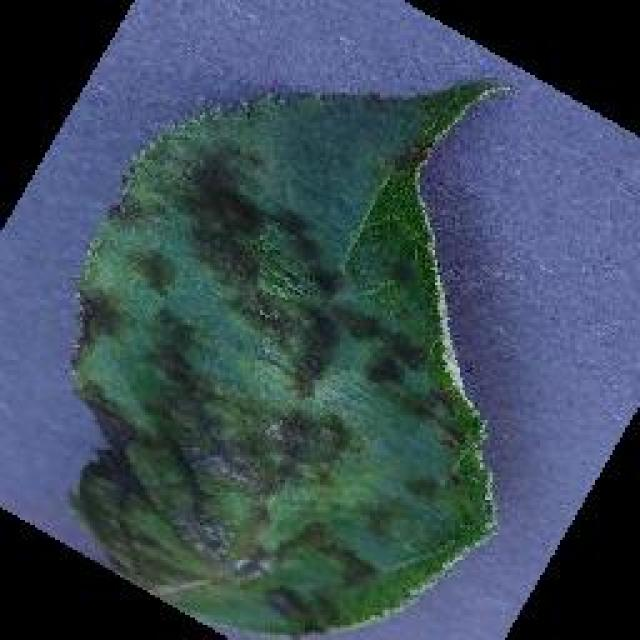apple scab disease: (65, 72, 515, 638)
